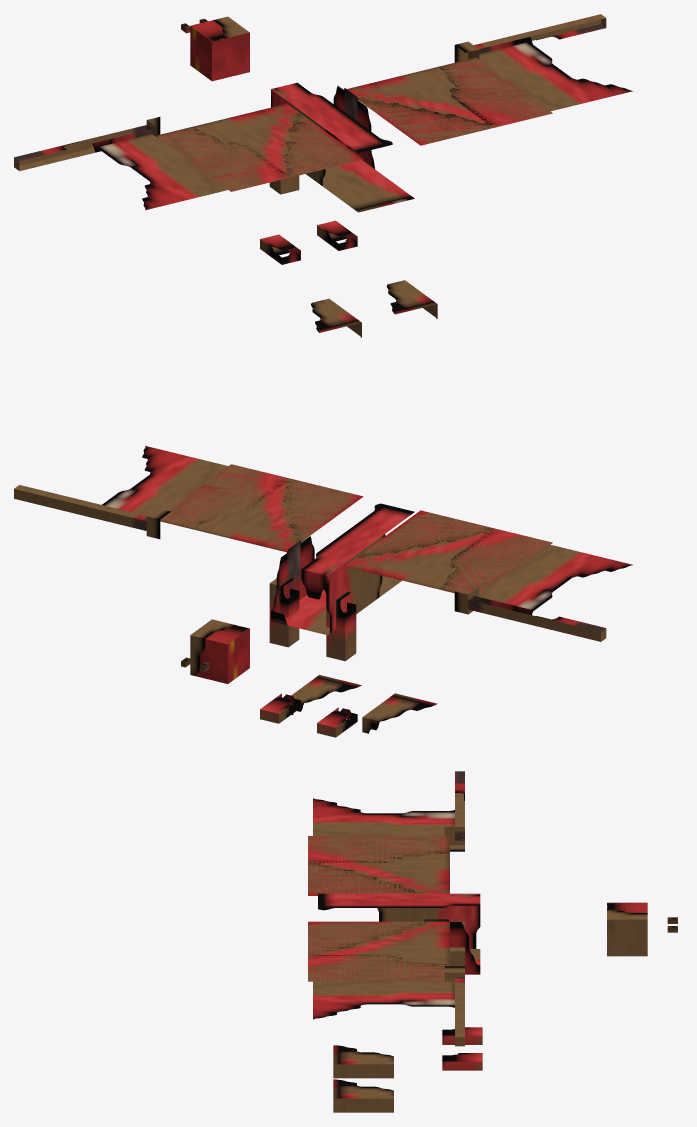
The model's file is red_dragon.fbx.
3 renders of one model, top to bottom at view 1: azimuth 30°, elevation 25°; view 2: azimuth 150°, elevation 25°; view 3: azimuth 270°, elevation 25°, orthographic. The views are drawn at different scales.
Visible parts, largest first — view 1: wing, wing1, body, wingtip1, wingtip, eyes, rearfoot, rearfoot1, frontfoot, frontfoot1, head; view 2: wing, wing1, body, wingtip1, wingtip, eyes, frontleg1, frontleg, rearfoot1, head, rearfoot, frontfoot1 (+1 smaller); view 3: wing, wing1, body, wingtip, wingtip1, head, rearfoot1, rearfoot, frontfoot, frontfoot1.
Boxes of the visible parts, x1,y1,x2,y2 form: wing: [347, 41, 552, 145]; wing1: [146, 103, 363, 191]; body: [271, 82, 414, 212]; wingtip1: [14, 125, 227, 210]; wingtip: [468, 14, 633, 111]; eyes: [190, 20, 249, 81]; rearfoot: [386, 280, 437, 319]; rearfoot1: [311, 298, 361, 337]; frontfoot: [317, 220, 357, 250]; frontfoot1: [260, 234, 300, 264]; head: [181, 16, 249, 38]; wing: [146, 464, 363, 552]; wing1: [344, 510, 552, 614]; body: [271, 503, 414, 635]; wingtip1: [468, 544, 632, 641]; wingtip: [14, 446, 228, 530]; eyes: [196, 626, 249, 683]; frontleg1: [326, 591, 356, 661]; frontleg: [269, 578, 299, 647]; rearfoot1: [362, 693, 437, 733]; head: [181, 619, 236, 675]; rearfoot: [289, 675, 361, 714]; frontfoot1: [317, 707, 357, 737]; wing: [308, 921, 464, 981]; wing1: [308, 827, 464, 895]; body: [318, 893, 480, 974]; wingtip: [313, 977, 464, 1046]; wingtip1: [313, 771, 464, 840]; head: [607, 908, 677, 956]; rearfoot1: [333, 1045, 393, 1078]; rearfoot: [333, 1079, 393, 1112]; frontfoot: [442, 1053, 482, 1070]; frontfoot1: [442, 1027, 482, 1044].
Size of the model in its own units: 1550 by 525 by 1650.
